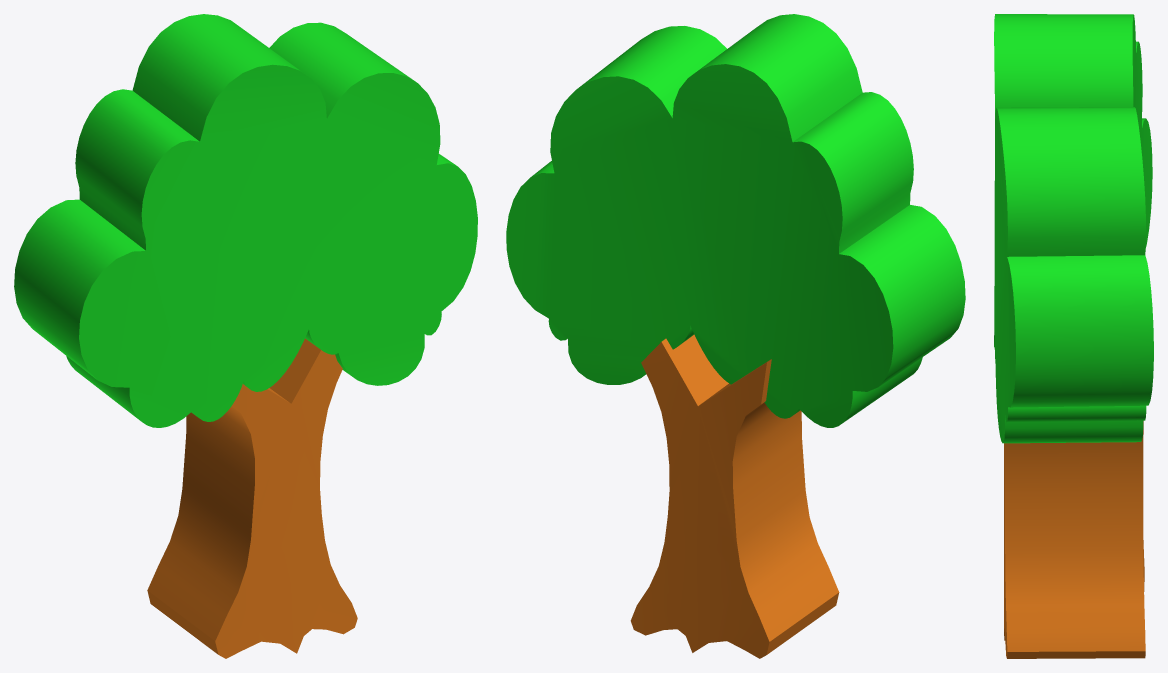
Rendered from Tree_Inner.fbx.
3 renders of one model, left to right at view 1: azimuth 30°, elevation 25°; view 2: azimuth 150°, elevation 25°; view 3: azimuth 270°, elevation 25°, orthographic.
Parts seen in each view (by area): view 1: Tree_Inner; view 2: Tree_Inner; view 3: Tree_Inner.
Part boxes in pixels (x1=…): Tree_Inner: x1=14, y1=14, x2=477, y2=658; Tree_Inner: x1=506, y1=14, x2=965, y2=658; Tree_Inner: x1=994, y1=14, x2=1153, y2=658.
Size of the model in its own units: 24.19 by 34.78 by 8.38.
